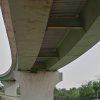Bridge: (3, 3, 86, 90)
